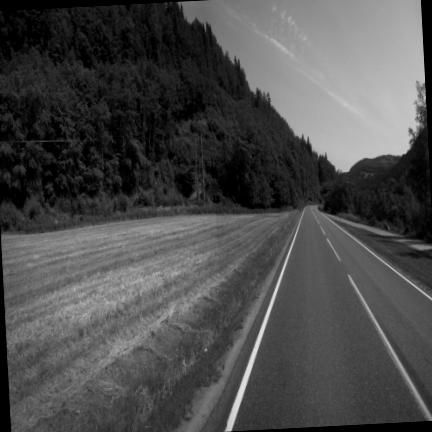Road: (208, 207, 431, 430)
